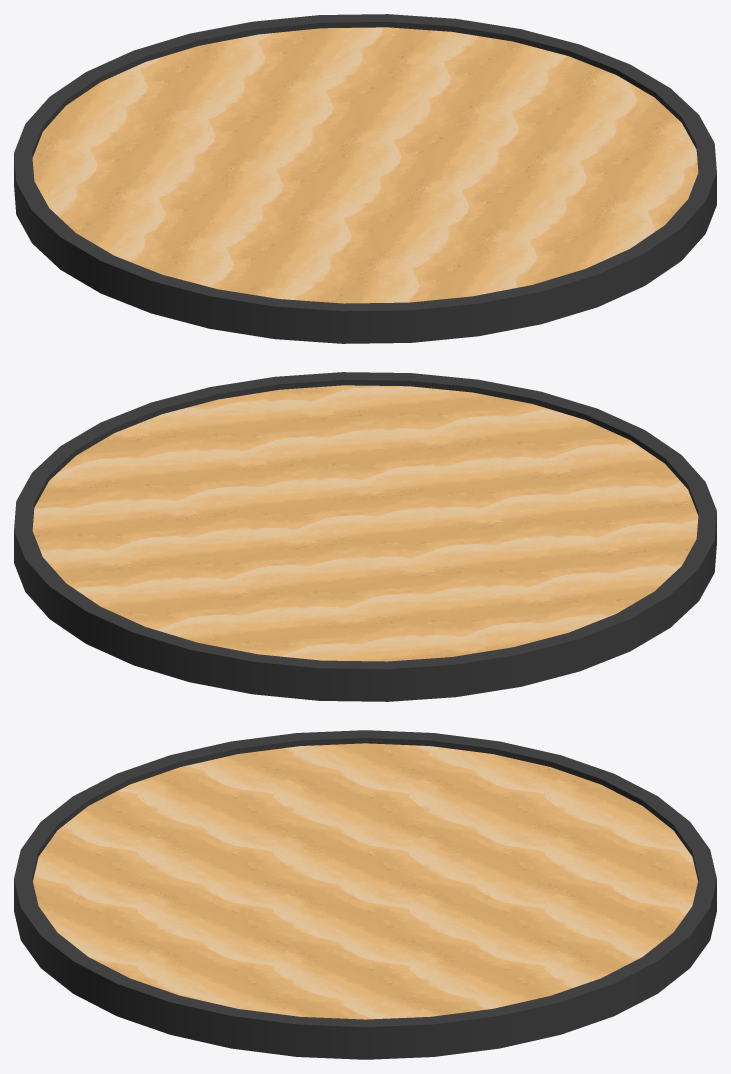
Rendered from Sand.fbx.
3 renders of one model, top to bottom at view 1: azimuth 30°, elevation 25°; view 2: azimuth 150°, elevation 25°; view 3: azimuth 270°, elevation 25°, orthographic.
Parts seen in each view (by area): view 1: Cylinder.014, Cylinder.015; view 2: Cylinder.014, Cylinder.015; view 3: Cylinder.014, Cylinder.015.
Part boxes in pixels (x1,y1,x2,y2): Cylinder.014: (32, 27, 698, 303); Cylinder.015: (14, 14, 716, 343); Cylinder.014: (32, 385, 698, 661); Cylinder.015: (14, 372, 716, 701); Cylinder.014: (33, 743, 697, 1019); Cylinder.015: (14, 730, 716, 1059).
Bounding box in the file's own units: 1844 × 94.28 × 1844.
